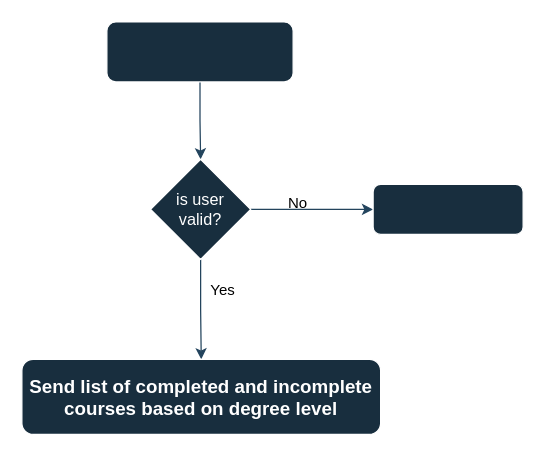
The diagram is 545 pixels wide and 456 high, and some of its shapes have lost their labels. Each missing label, with the centre of its shape:
"Invalid user" belongs at point 447,208.
"Student Dashboard" belongs at point 199,51.
